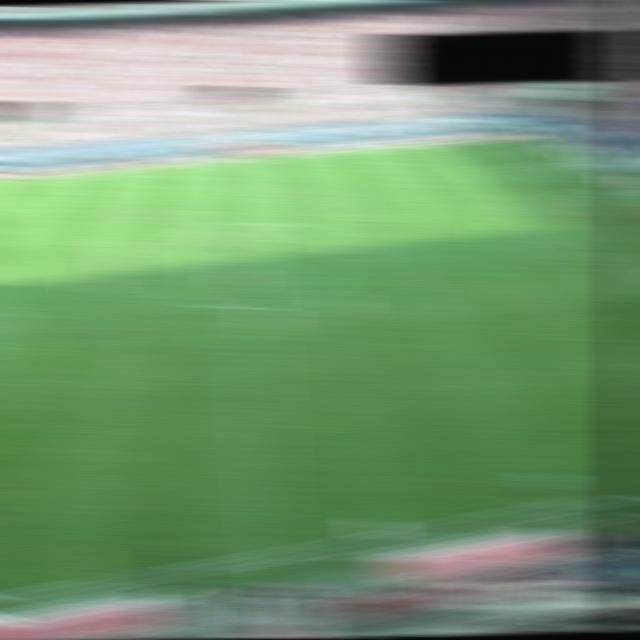bigarea_top_inner: (463, 163, 502, 177)
bigarea_top_outter: (561, 156, 597, 168)
bottom_arc_area_intersection: (562, 252, 600, 265)
corner: (518, 130, 554, 142)
halfcircle_bottom: (236, 301, 271, 312)
halfcircle_top: (229, 217, 265, 229)
midline_bottom_intersection: (254, 548, 294, 563)
midline_top_intersection: (224, 156, 260, 168)
smallarea_top_inner: (571, 188, 608, 199)
smallarea_top_outter: (607, 183, 640, 194)
top_arc_area_intersection: (501, 198, 538, 209)
